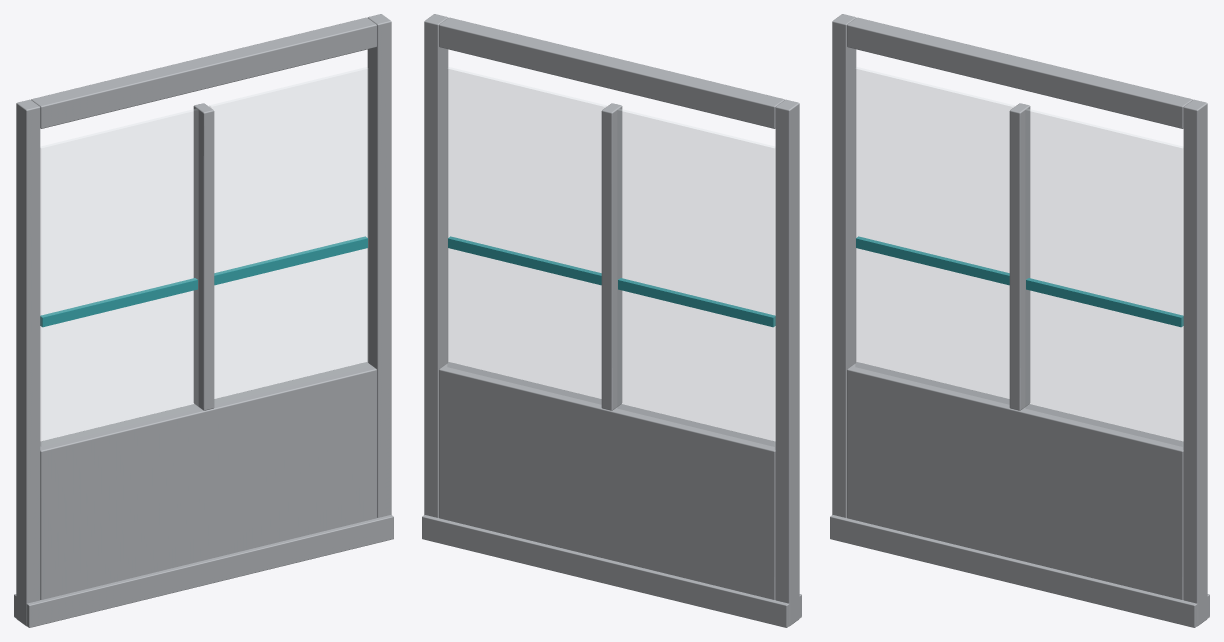
Rendered from Glazed Partition Module (Dental Practice and Surgery).glb.
3 views of the same model, side by side, from view 1: azimuth 30°, elevation 25°; view 2: azimuth 150°, elevation 25°; view 3: azimuth 330°, elevation 25° (orthographic).
Visible parts, largest first — view 1: glazed-partition-module; view 2: glazed-partition-module; view 3: glazed-partition-module.
Boxes of the visible parts, x1,y1,x2,y2 form: glazed-partition-module: [14, 14, 393, 627]; glazed-partition-module: [422, 14, 801, 627]; glazed-partition-module: [830, 14, 1209, 627].
Bounding box in the file's own units: 2 × 2.7 × 0.146.
